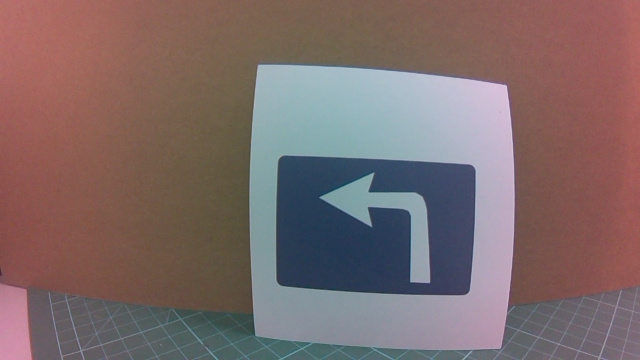left: (290, 139, 482, 307)
